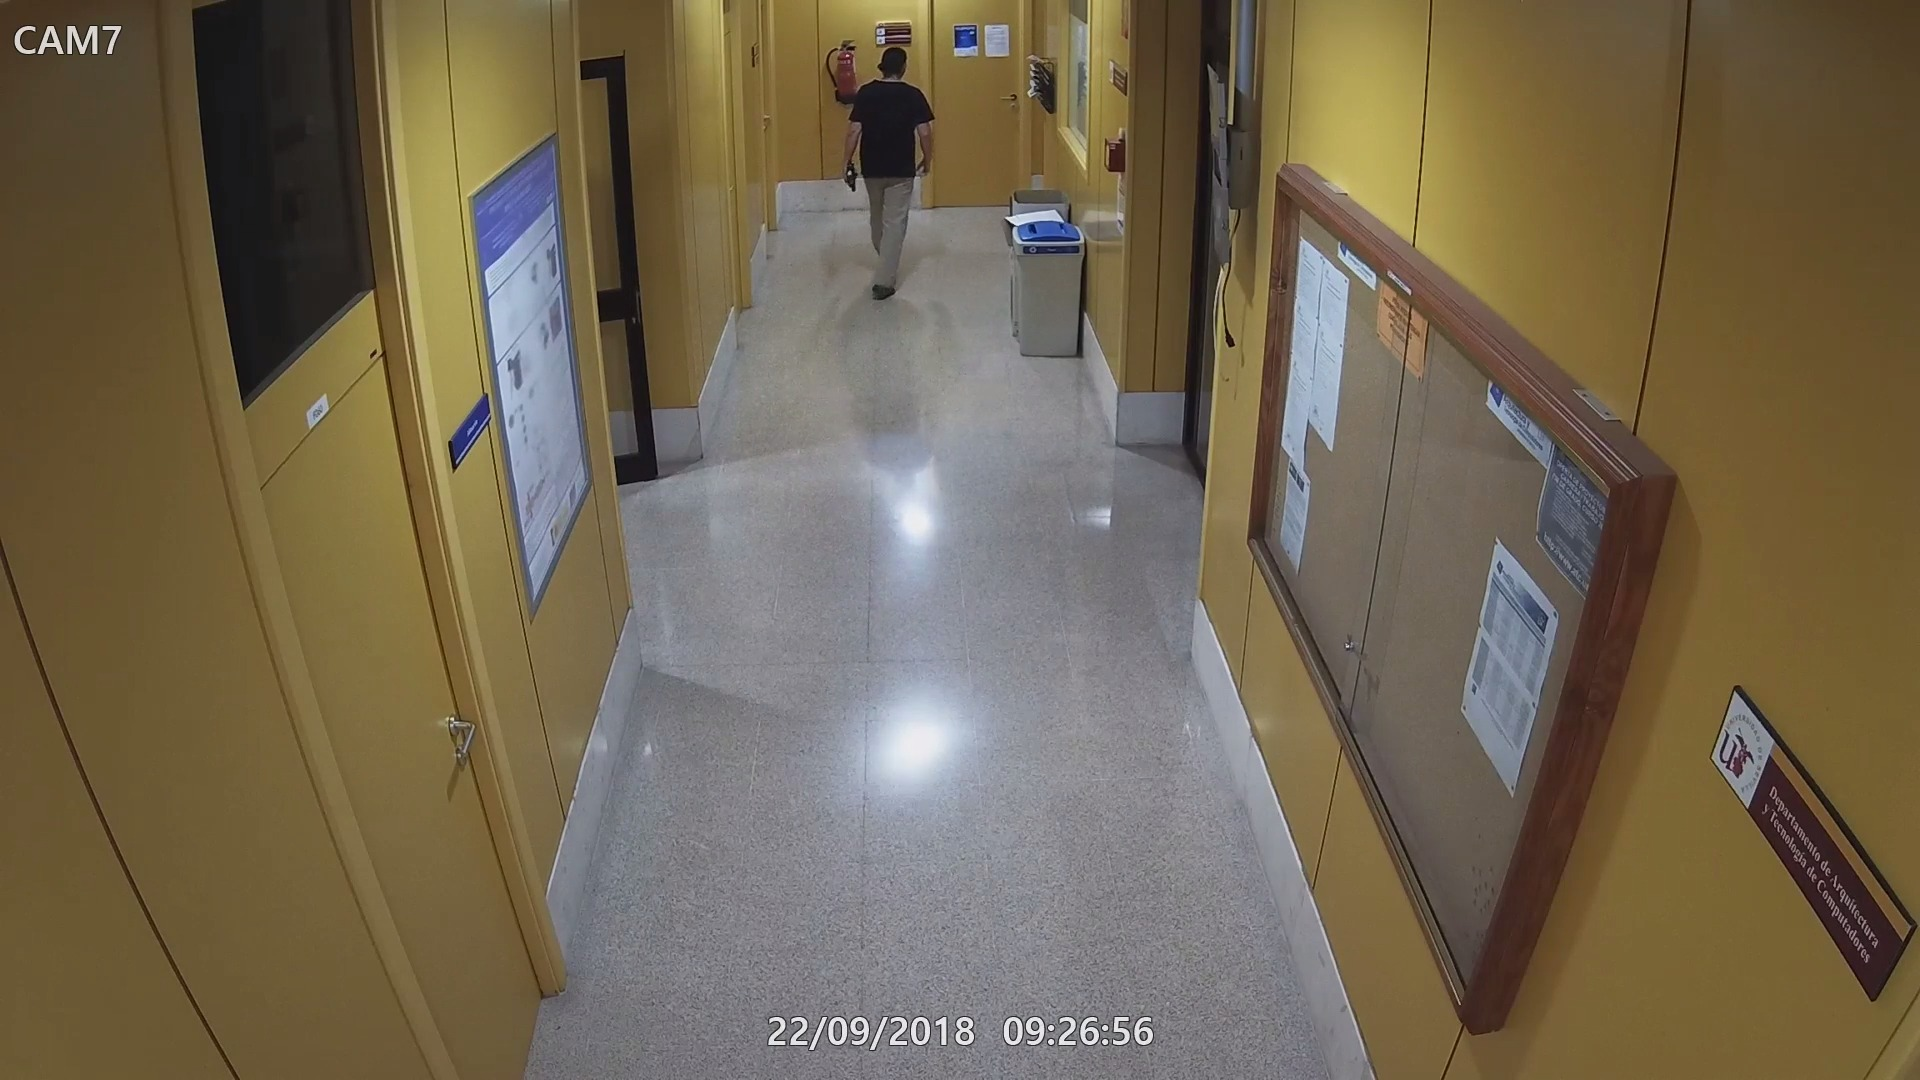Short_rifle: (836, 162, 862, 191)
